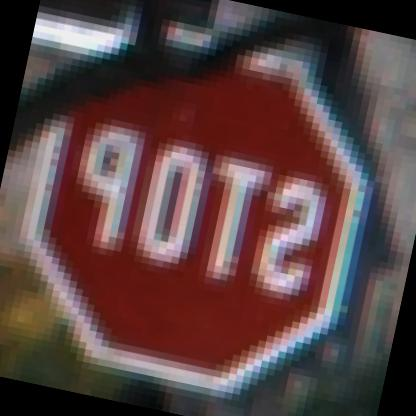stop: (0, 12, 401, 415)
